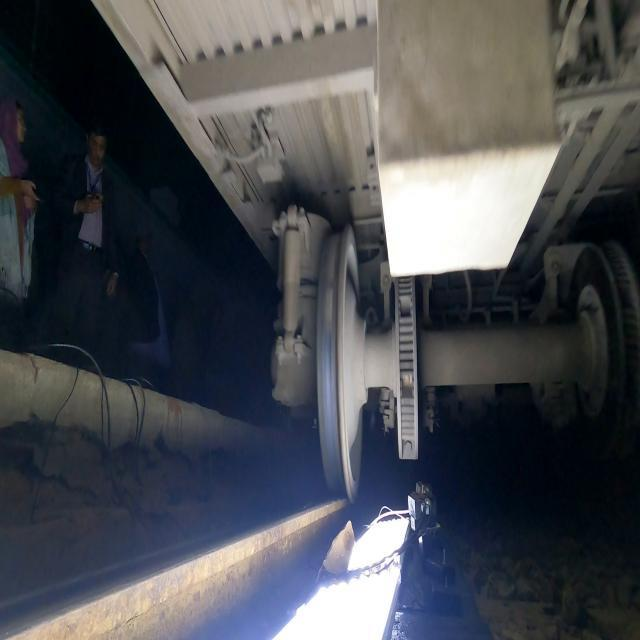Shelling: (323, 235, 338, 328)
Wheel: (316, 225, 368, 503)
